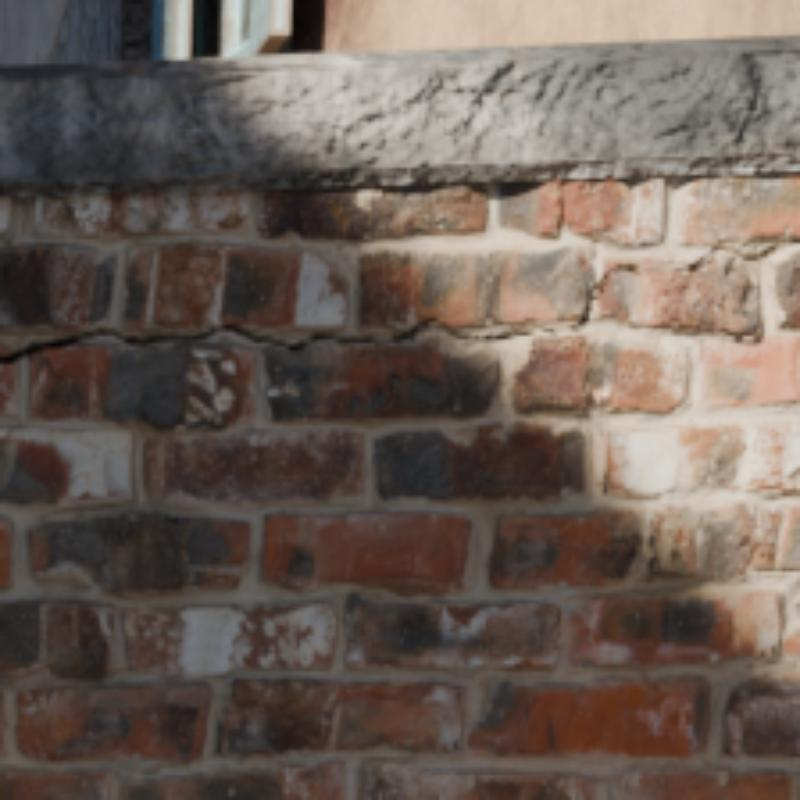crack: (0, 325, 315, 361), (319, 318, 439, 343), (571, 268, 614, 325), (736, 239, 782, 257), (464, 329, 529, 336), (439, 321, 464, 336)
